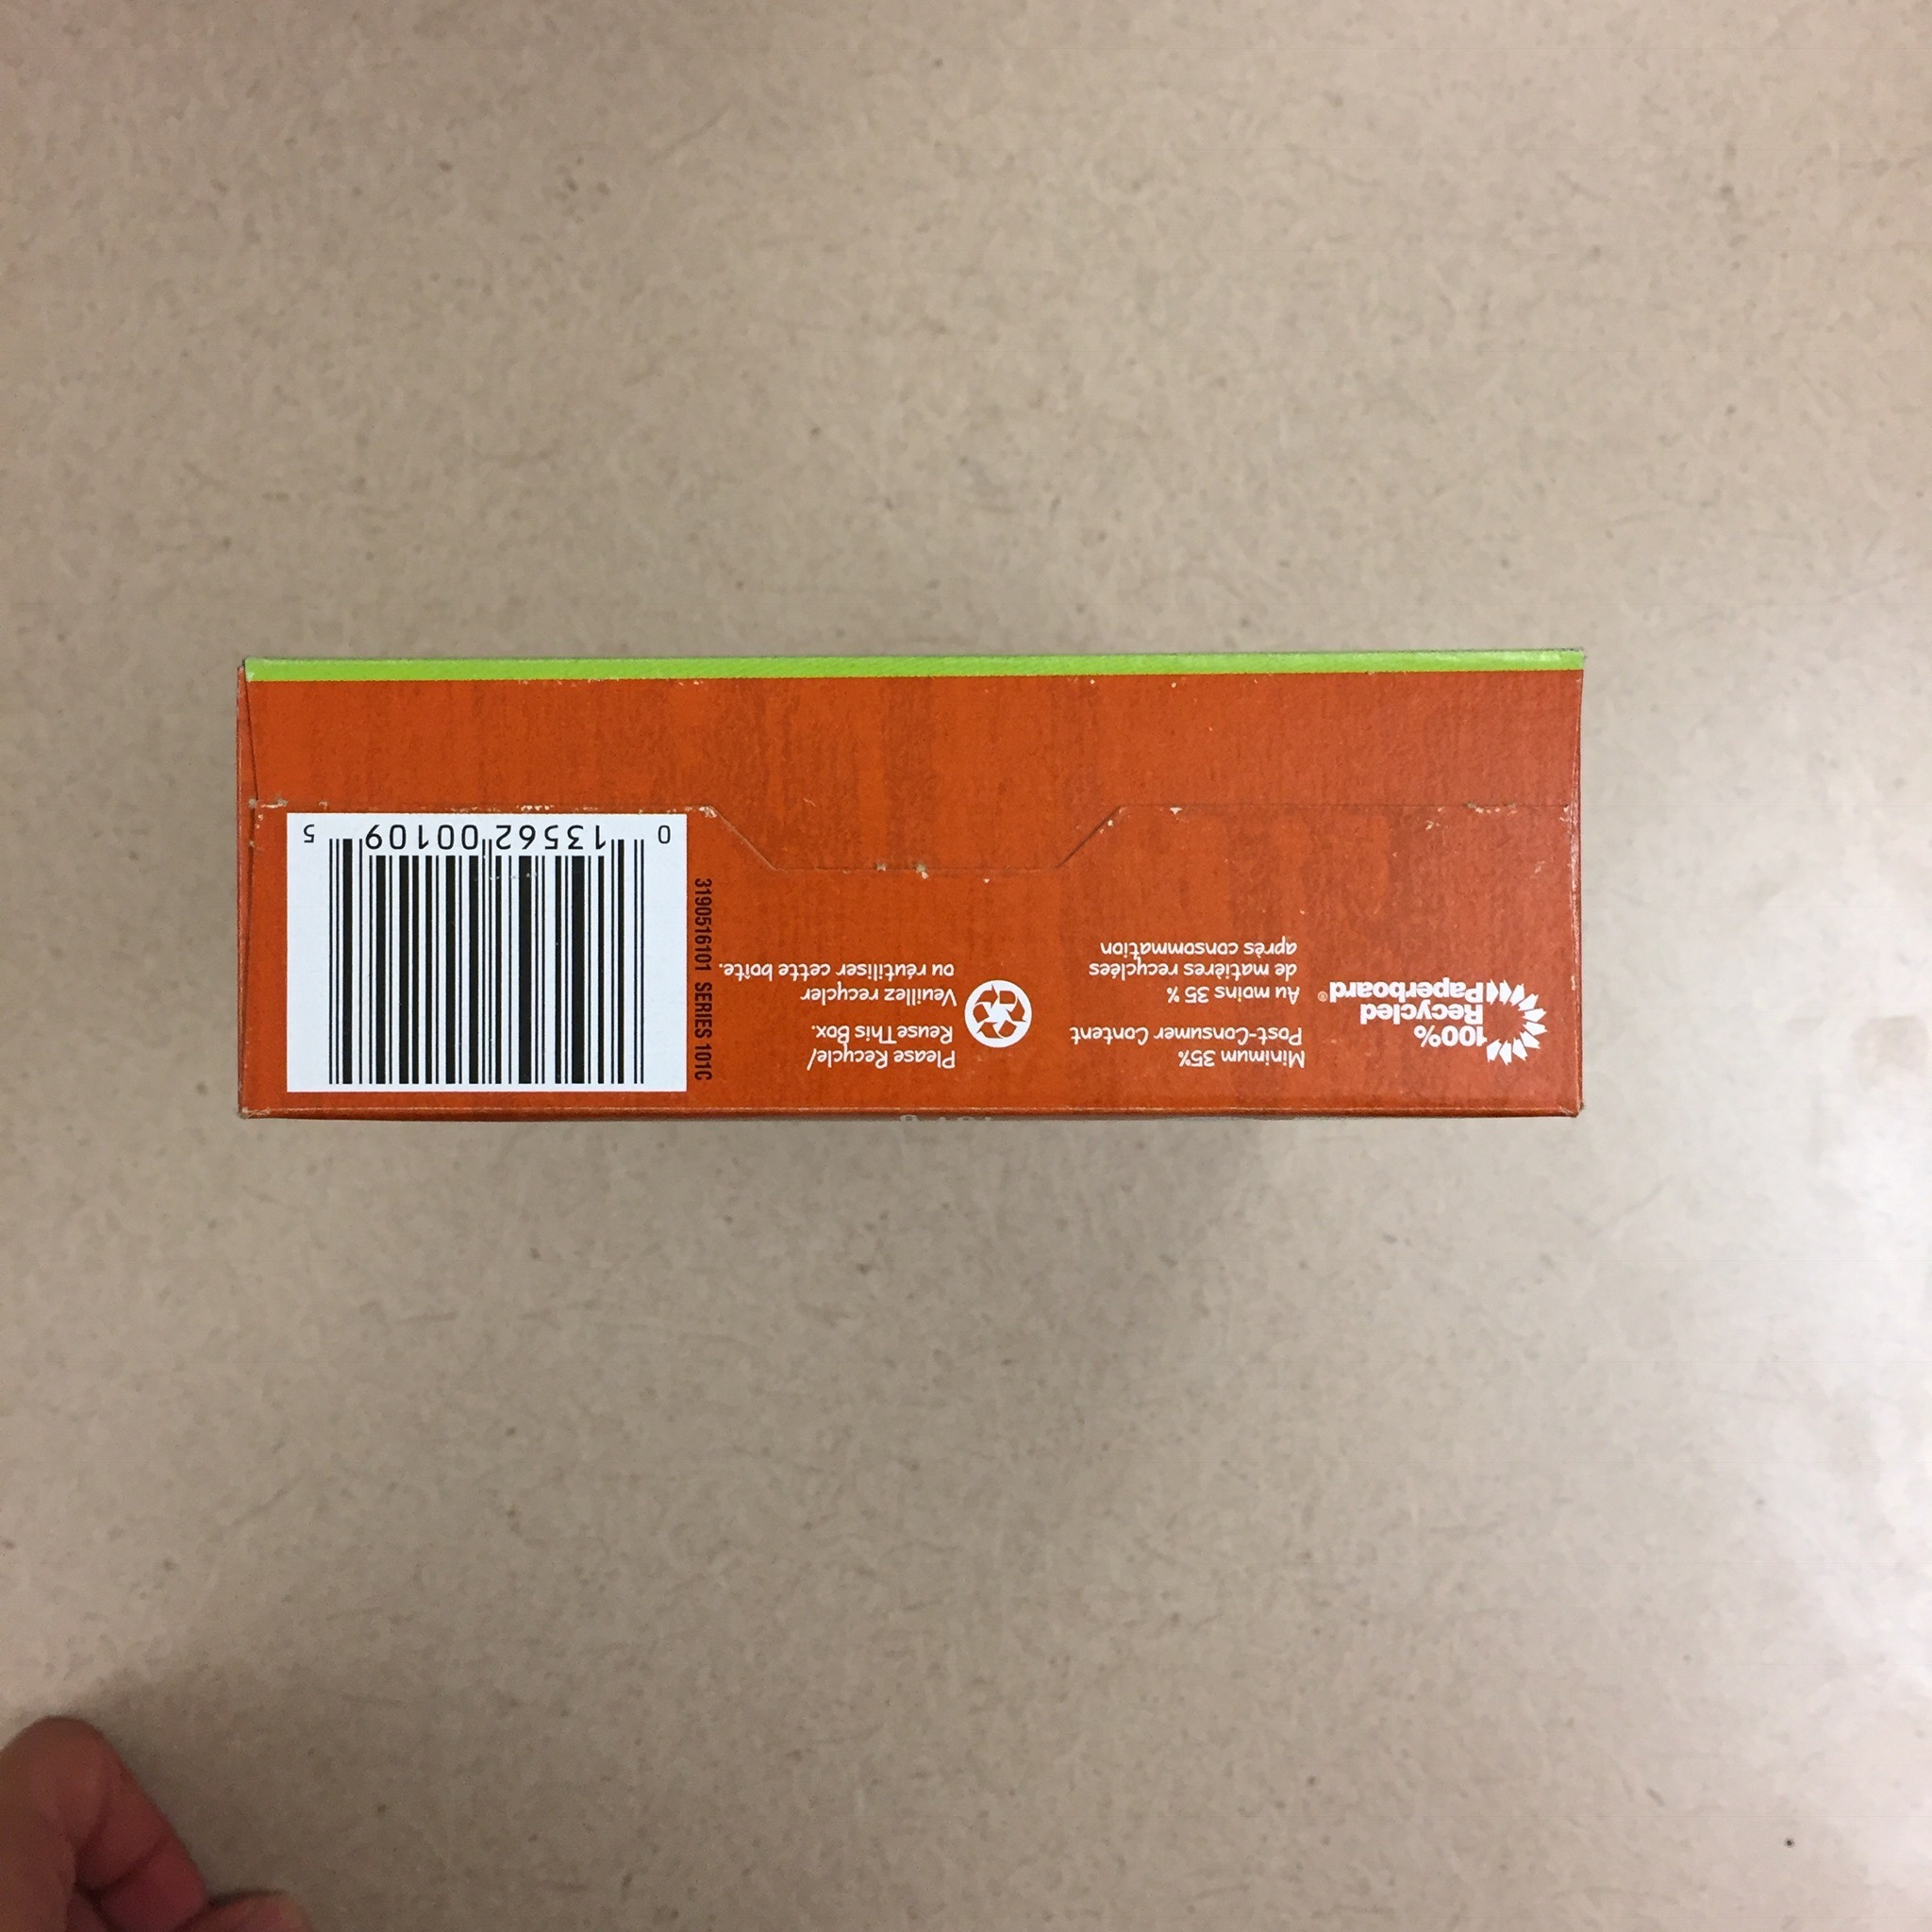annies_snickerdoodle_cinnamon_sugar: (234, 646, 1589, 1127)
